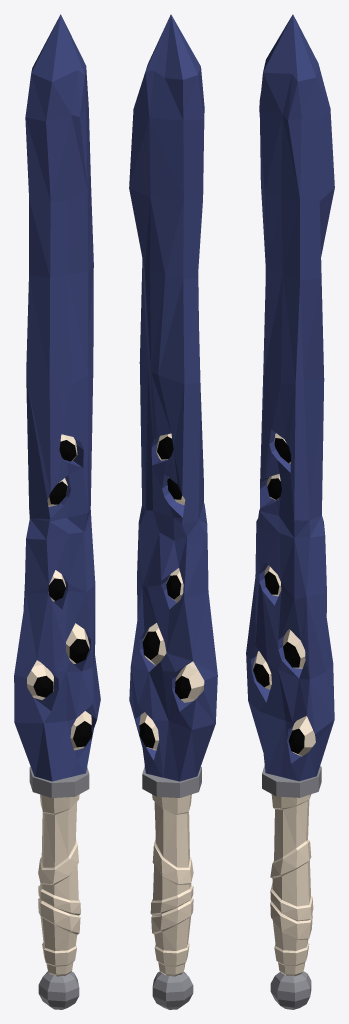
Rendered from _sword_21.fbx.
The picture shows the model from 3 angles, left to right: view 1: azimuth 30°, elevation 25°; view 2: azimuth 150°, elevation 25°; view 3: azimuth 330°, elevation 25°; orthographic projection.
Parts seen in each view (by area): view 1: sword_21; view 2: sword_21; view 3: sword_21.
Part boxes in pixels (left/top/right/bottom): sword_21: left=14, top=14, right=100, bottom=1009; sword_21: left=129, top=14, right=217, bottom=1009; sword_21: left=246, top=14, right=334, bottom=1009.
Bounding box in the file's own units: 10.81 × 117 × 6.61.
